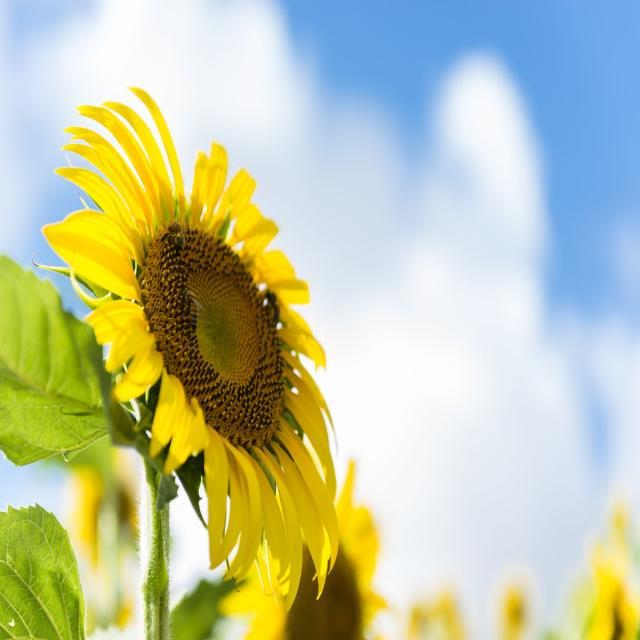sunflower: (52, 70, 386, 597)
